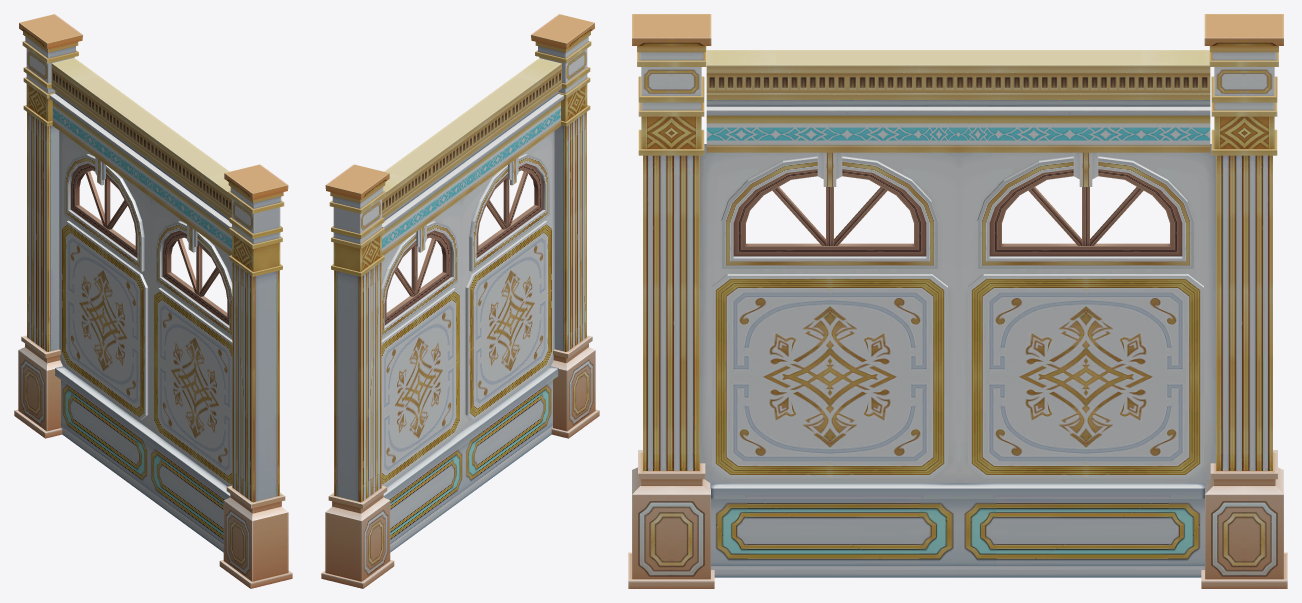
The model's file is my_trinityclassroom_01_partition_04.glb.
The picture shows the model from 3 angles, left to right: view 1: azimuth 30°, elevation 25°; view 2: azimuth 150°, elevation 25°; view 3: azimuth 270°, elevation 25°; orthographic projection. The views are drawn at different scales.
Visible parts, largest first — view 1: my_trinityclassroom_01_partition_04; view 2: my_trinityclassroom_01_partition_04; view 3: my_trinityclassroom_01_partition_04.
Boxes of the visible parts, x1,y1,x2,y2 form: my_trinityclassroom_01_partition_04: (14,14,292,588); my_trinityclassroom_01_partition_04: (321,14,599,588); my_trinityclassroom_01_partition_04: (628,14,1287,588).
Size of the model in its own units: 0.00184 by 0.0165 by 0.018.
Materials: 1 (1 with a texture image).
